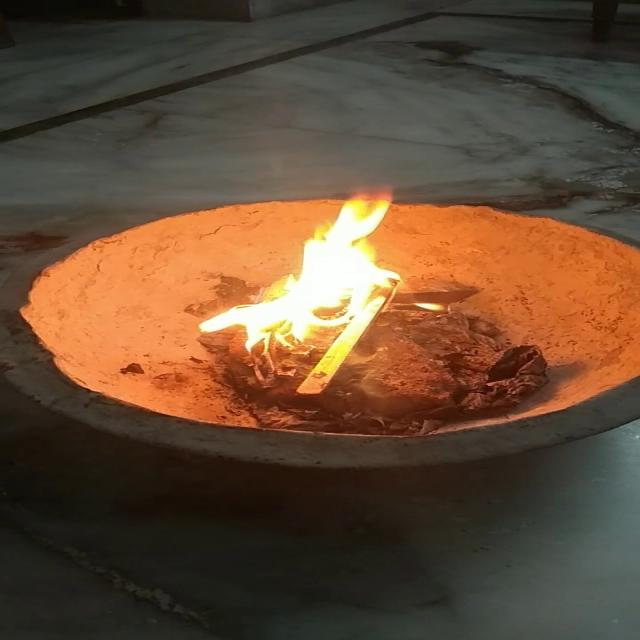fire: (200, 188, 420, 352)
